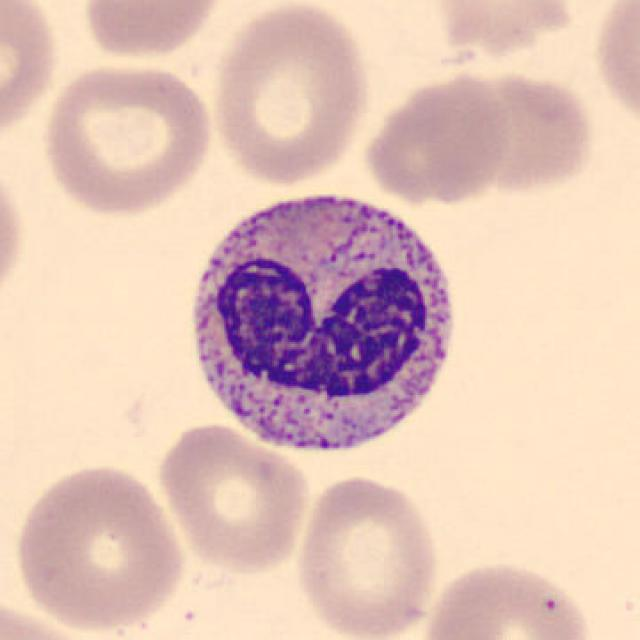Neutrophil: (176, 173, 473, 474)
RBC: (9, 458, 190, 633), (208, 0, 375, 189), (37, 58, 217, 219), (291, 470, 442, 640), (153, 420, 313, 574), (357, 67, 514, 206), (445, 65, 599, 199), (416, 555, 599, 640), (423, 0, 587, 62), (0, 0, 64, 150), (76, 0, 225, 63), (588, 0, 640, 136), (0, 150, 30, 315), (0, 596, 96, 640)
